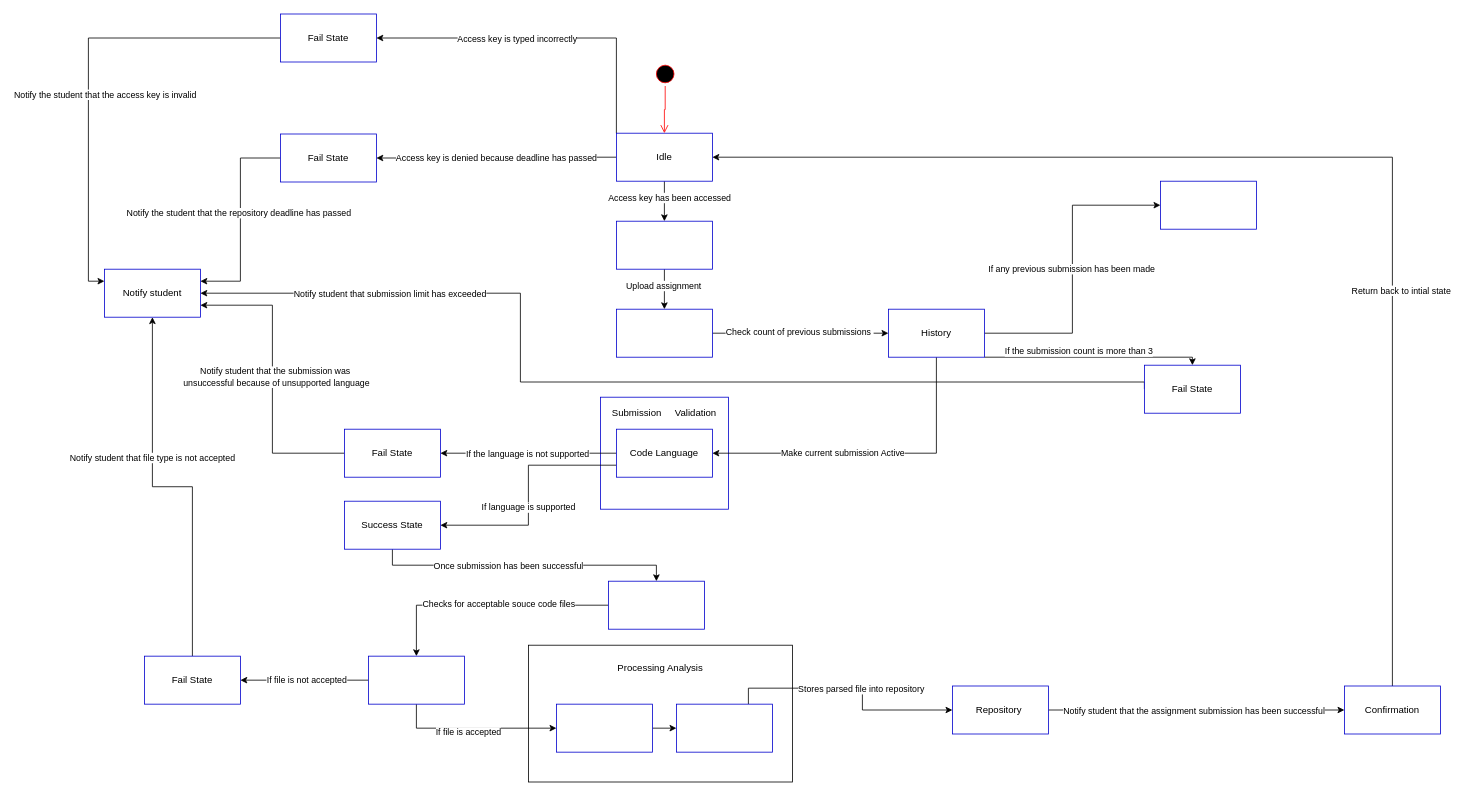
The diagram is 1464 pixels wide and 802 high, and some of its shapes have lost their labels. The centre of each missing label's shape, as x and y in pixels:
"Archived" belongs at point (1208, 204).
"Authentication" belongs at point (664, 244).
"Files" belongs at point (416, 679).
"Remove comments" belongs at point (724, 727).
"Remove filename and assigns an ID" belongs at point (604, 727).
"Remove personal Information" belongs at point (656, 604).
"Submission" belongs at point (664, 332).
